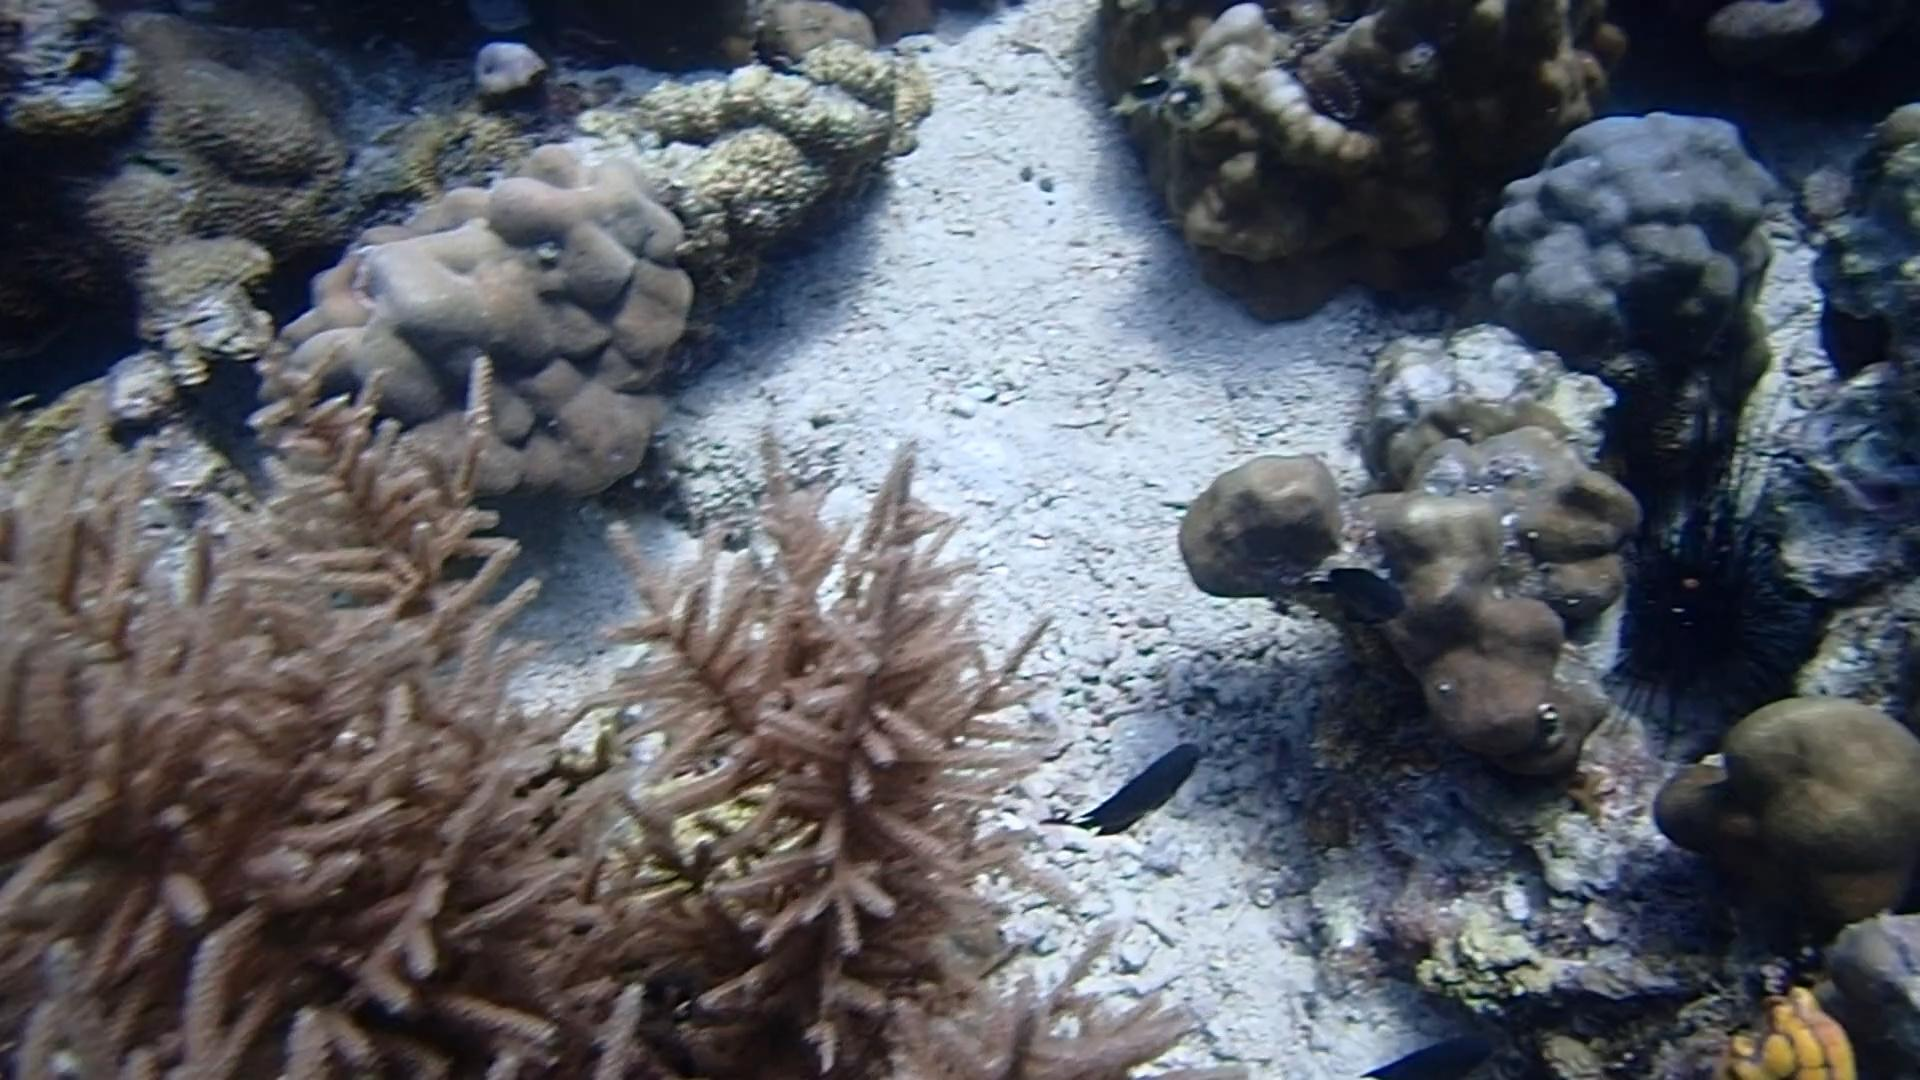Dark Fish: (1071, 737, 1205, 841), (1357, 1029, 1507, 1080), (1313, 560, 1407, 628)
Yellow Tail: (1097, 57, 1187, 121)
